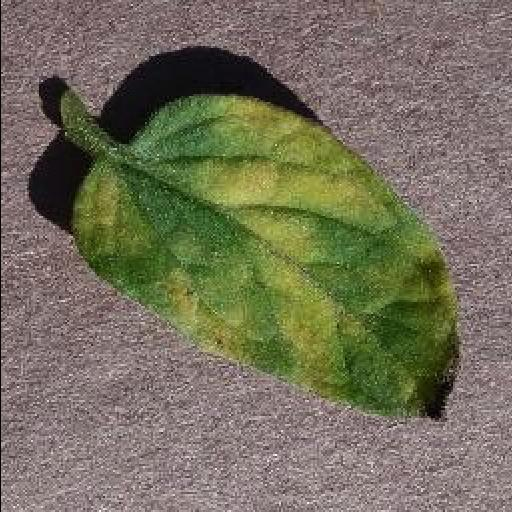disease_tomato: (68, 95, 462, 423)
